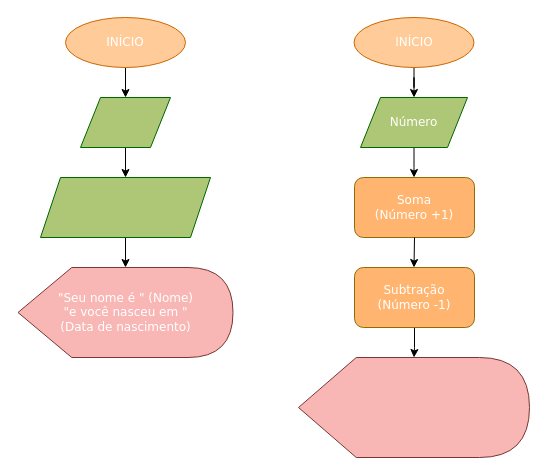
Image size: 547x475. Some labels were removed from this diagram. Here are the shapes that lost their labels. From the top down, the box of each, then its label:
(80, 96, 170, 148): Nome
(40, 176, 210, 238): Data de nascimento
(298, 356, 530, 458): "O antecessor é " (Subtração) "e o sucessor é " (Soma)
